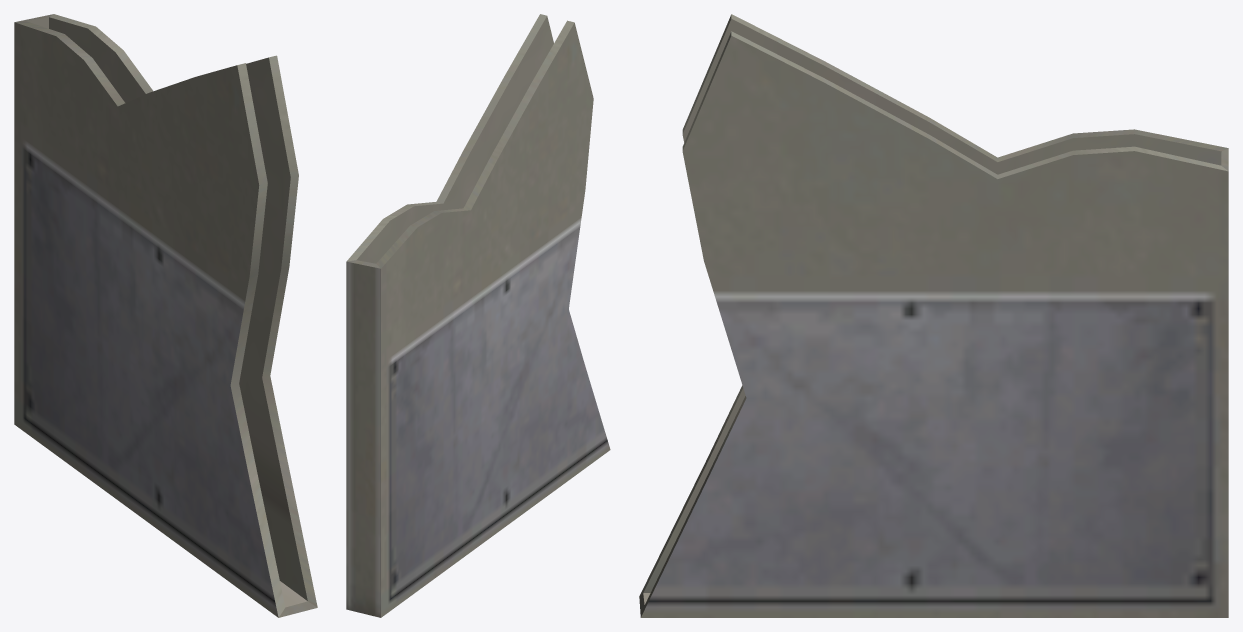
Rendered from doormainmetalwindowsmall01_dm08_j.glb.
3 renders of one model, left to right at view 1: azimuth 30°, elevation 25°; view 2: azimuth 150°, elevation 25°; view 3: azimuth 270°, elevation 25°, orthographic. The views are drawn at different scales.
Parts seen in each view (by area): view 1: doormainmetalwindowsmall01_dm08_j; view 2: doormainmetalwindowsmall01_dm08_j; view 3: doormainmetalwindowsmall01_dm08_j.
Part boxes in pixels (x1,y1,x2,y2): doormainmetalwindowsmall01_dm08_j: (14,14,317,617); doormainmetalwindowsmall01_dm08_j: (346,14,610,617); doormainmetalwindowsmall01_dm08_j: (639,14,1228,617).
Size of the model in its own units: 0.0382 by 0.4795 by 0.4397.
1 material, 1 textured.
